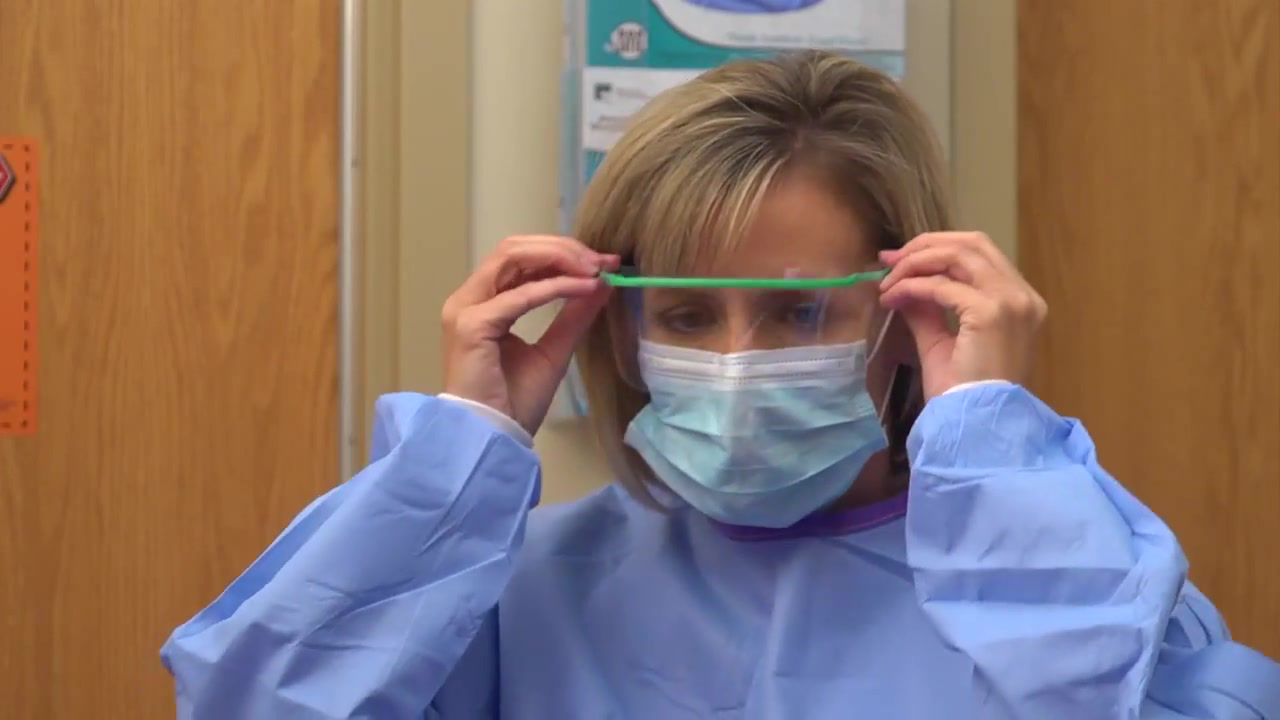Coverall: (165, 370, 1261, 720)
Face_Shield: (572, 244, 907, 524)
with_mask: (634, 310, 868, 526)
